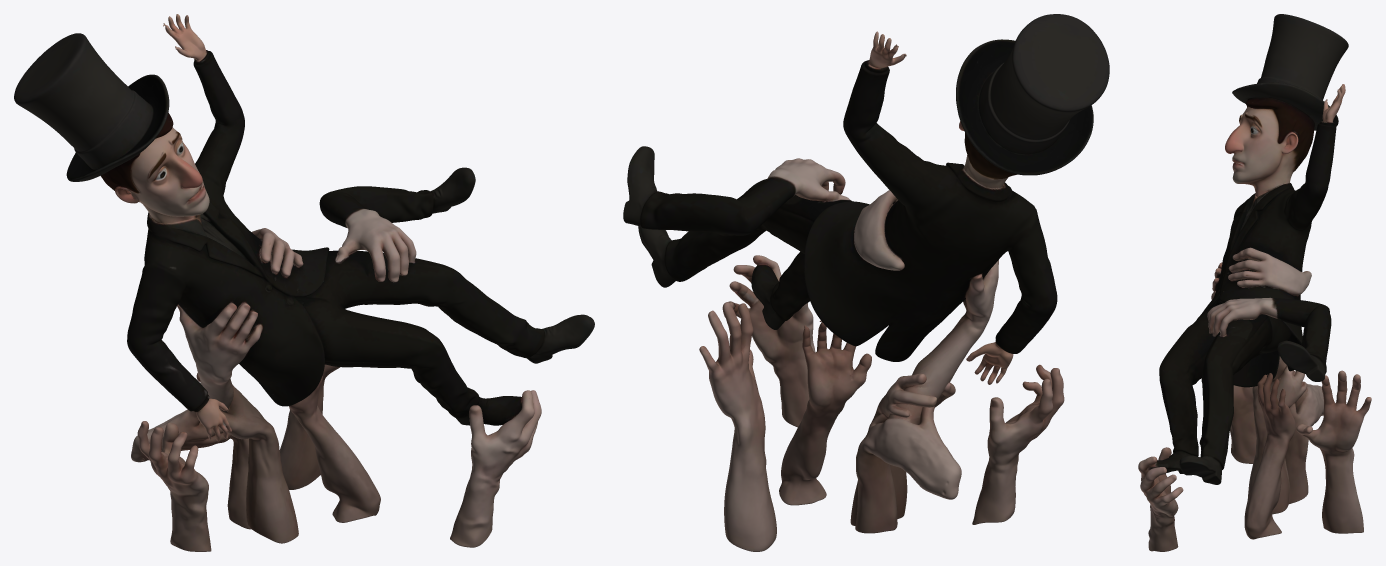
File: 38-el-hombre-del-pacto.-optimized.glb
3 views of the same model, side by side, from view 1: azimuth 30°, elevation 25°; view 2: azimuth 150°, elevation 25°; view 3: azimuth 270°, elevation 25° (orthographic). The views are drawn at different scales.
Visible parts, largest first — view 1: tripo_node_98a463e3-a00f-4b26-8009-9cb64622df65; view 2: tripo_node_98a463e3-a00f-4b26-8009-9cb64622df65; view 3: tripo_node_98a463e3-a00f-4b26-8009-9cb64622df65.
Boxes of the visible parts, bbox=[...] form: tripo_node_98a463e3-a00f-4b26-8009-9cb64622df65: bbox=[14, 14, 594, 551]; tripo_node_98a463e3-a00f-4b26-8009-9cb64622df65: bbox=[623, 14, 1109, 551]; tripo_node_98a463e3-a00f-4b26-8009-9cb64622df65: bbox=[1138, 14, 1371, 551].
Size of the model in its own units: 0.994 by 1 by 0.5003.
1 material, 1 textured.
